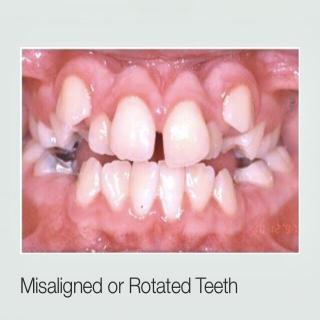maligned: (217, 76, 263, 132), (52, 71, 90, 127), (196, 116, 224, 154)
plaque: (150, 179, 170, 207)
